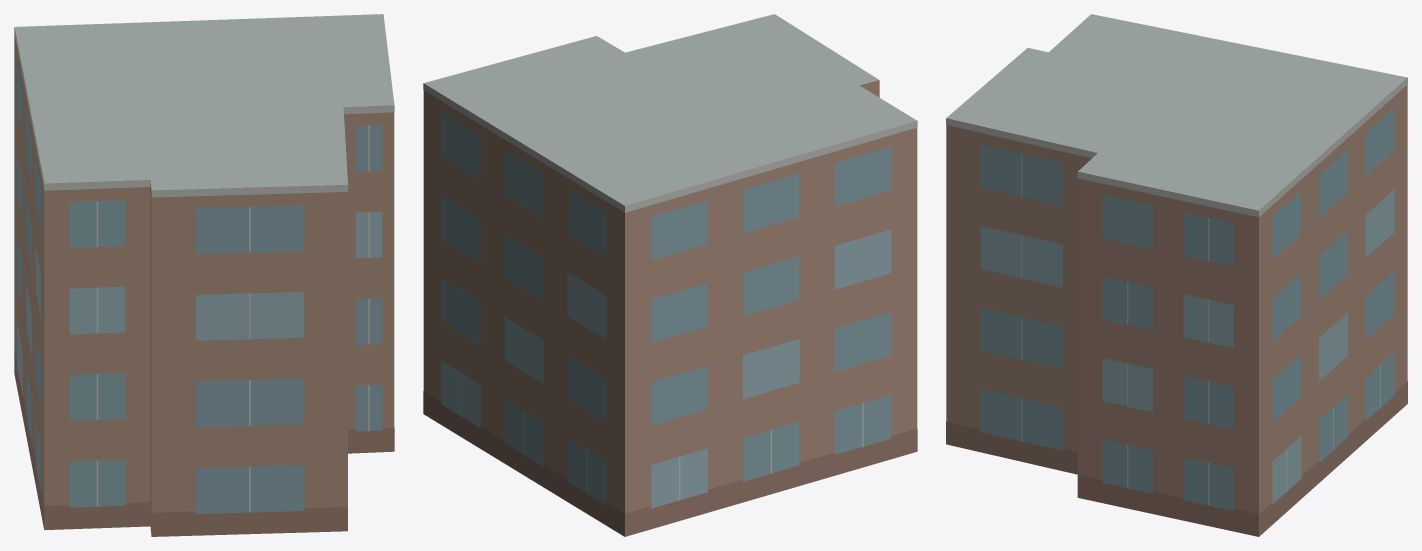
File: survey-upis-32917814.glb
The picture shows the model from 3 angles, left to right: view 1: azimuth 30°, elevation 25°; view 2: azimuth 150°, elevation 25°; view 3: azimuth 270°, elevation 25°; orthographic projection. The views are drawn at different scales.
Parts seen in each view (by area): view 1: survey-upis-32917814.tmp; view 2: survey-upis-32917814.tmp; view 3: survey-upis-32917814.tmp.
Boxes of the visible parts, x1=… form: survey-upis-32917814.tmp: x1=14, y1=14, x2=394, y2=536; survey-upis-32917814.tmp: x1=423, y1=14, x2=917, y2=536; survey-upis-32917814.tmp: x1=946, y1=14, x2=1407, y2=536.
Size of the model in its own units: 15.4 by 11.9 by 15.28.
